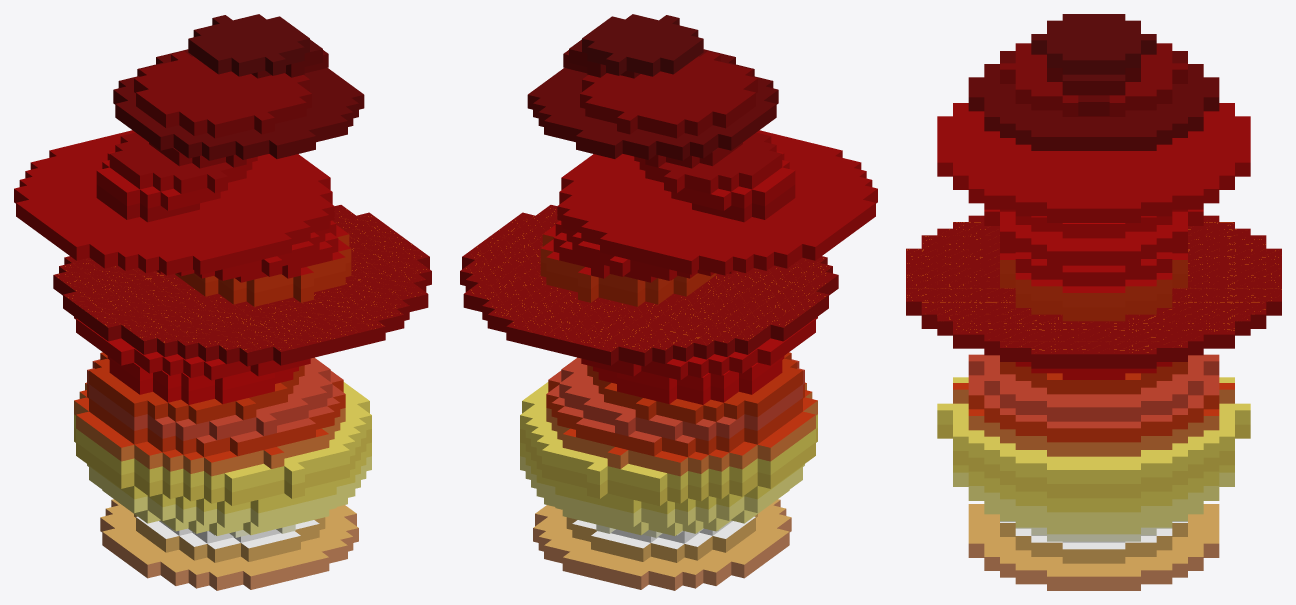
Rendered from TREDA0_flame.obj.
3 views of the same model, side by side, from view 1: azimuth 30°, elevation 25°; view 2: azimuth 150°, elevation 25°; view 3: azimuth 270°, elevation 25° (orthographic). The views are drawn at different scales.
Parts seen in each view (by area): view 1: TorchFlame; view 2: TorchFlame; view 3: TorchFlame.
Boxes of the visible parts, x1,y1,x2,y2 form: TorchFlame: (14, 14, 431, 590); TorchFlame: (460, 14, 877, 590); TorchFlame: (906, 14, 1281, 590).
Size of the model in its own units: 0.7105 by 0.9474 by 0.6316.
Materials: 1 (1 with a texture image).
